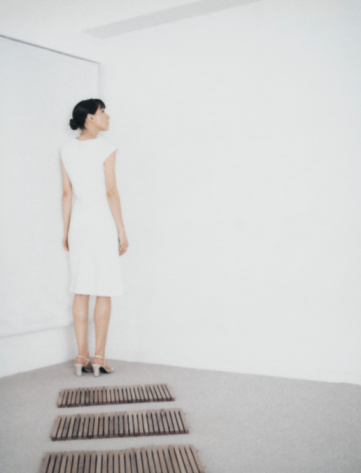em pe: (58, 81, 127, 376)
